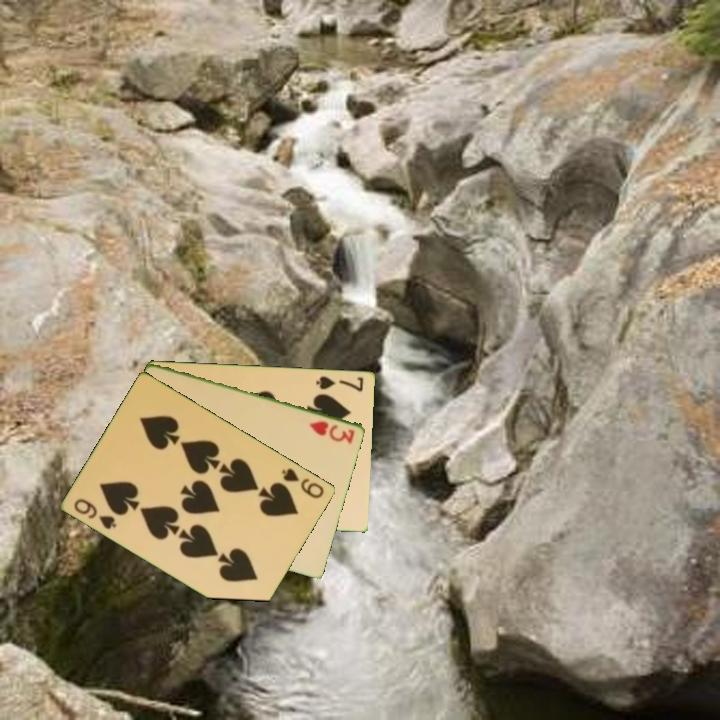3h: (306, 417, 358, 447)
7s: (313, 372, 367, 394)
9s: (278, 464, 327, 501), (70, 495, 119, 532)
